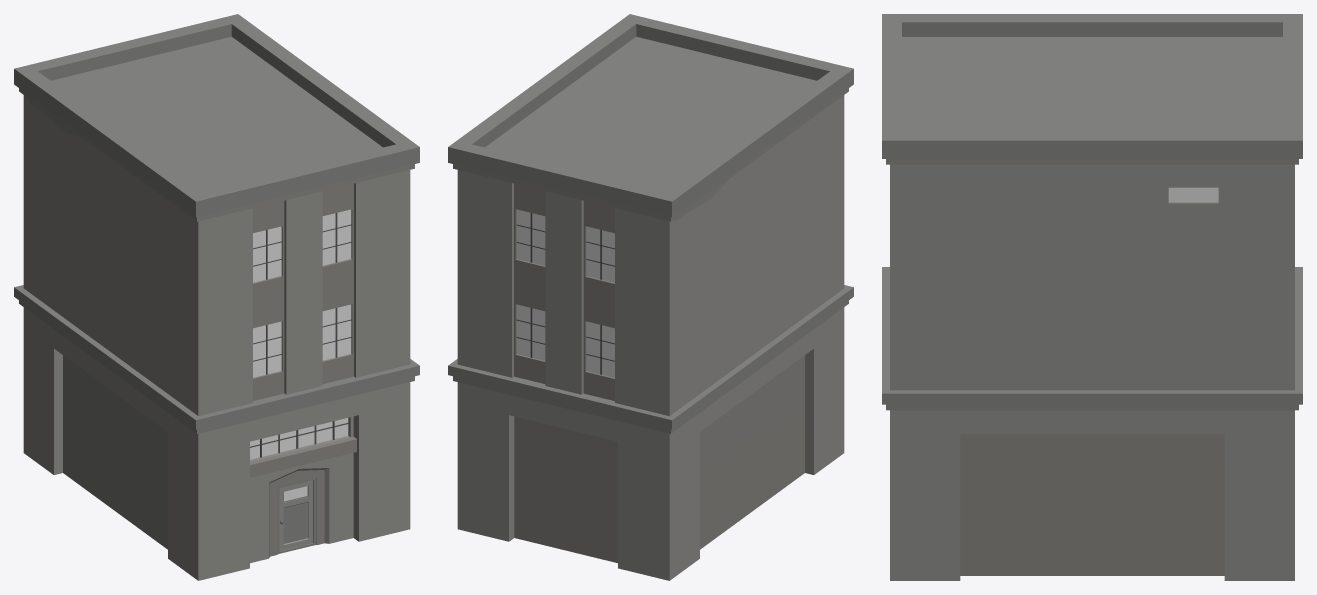
File: SM_Bldg_City_Industrial_03.fbx
3 views of the same model, side by side, from view 1: azimuth 30°, elevation 25°; view 2: azimuth 150°, elevation 25°; view 3: azimuth 270°, elevation 25° (orthographic). The views are drawn at different scales.
Visible parts, largest first — view 1: SM_Bldg_City_Industrial_03, SM_Bldg_City_Industrial_03_Door; view 2: SM_Bldg_City_Industrial_03; view 3: SM_Bldg_City_Industrial_03.
Boxes of the visible parts, x1,y1,x2,y2 form: SM_Bldg_City_Industrial_03: [14, 14, 419, 580]; SM_Bldg_City_Industrial_03_Door: [279, 480, 313, 550]; SM_Bldg_City_Industrial_03: [448, 14, 853, 580]; SM_Bldg_City_Industrial_03: [882, 14, 1302, 580].
Bounding box in the file's own units: 740 × 1210 × 1040.
